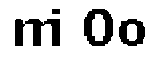0: (73, 5, 115, 51)
i: (51, 6, 66, 51)
m: (11, 17, 57, 50)
o: (118, 17, 146, 51)
